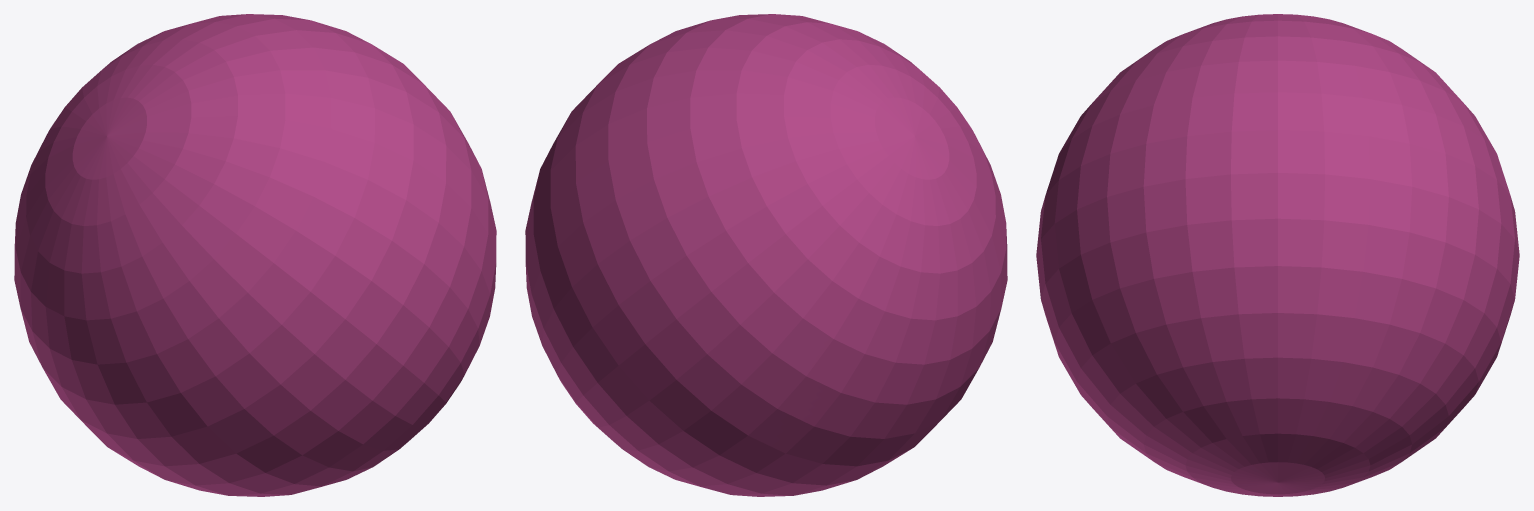
The model's file is spikeBody.obj.
The picture shows the model from 3 angles, left to right: view 1: azimuth 30°, elevation 25°; view 2: azimuth 150°, elevation 25°; view 3: azimuth 270°, elevation 25°; orthographic projection.
Parts seen in each view (by area): view 1: 球; view 2: 球; view 3: 球.
Boxes of the visible parts, bbox=[...] form: 球: bbox=[14, 14, 496, 496]; 球: bbox=[525, 14, 1007, 496]; 球: bbox=[1036, 14, 1519, 496].
Bounding box in the file's own units: 2 × 2 × 2.
Materials: 1 (1 with a texture image).
